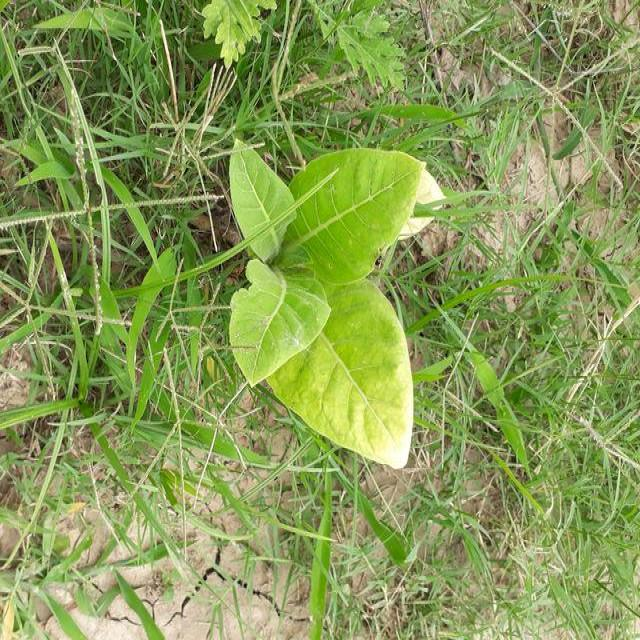crop: (230, 148, 426, 470)
